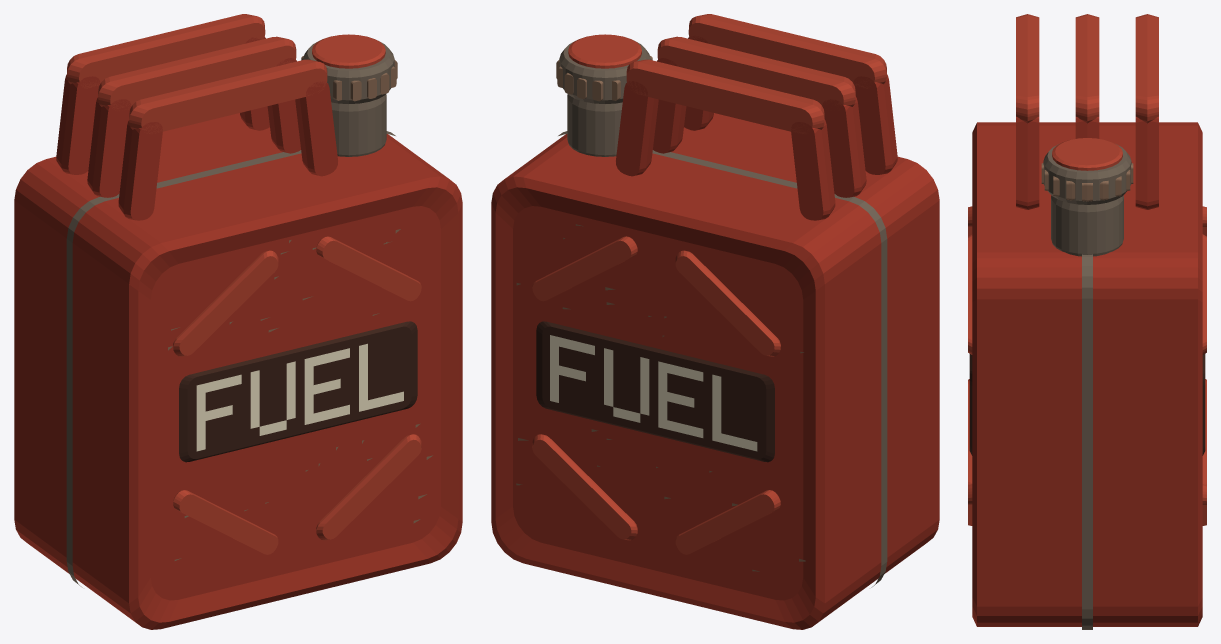
File: bidon-fuel.glb
The picture shows the model from 3 angles, left to right: view 1: azimuth 30°, elevation 25°; view 2: azimuth 150°, elevation 25°; view 3: azimuth 270°, elevation 25°; orthographic projection. The views are drawn at different scales.
Parts seen in each view (by area): view 1: Bidón FUEL; view 2: Bidón FUEL; view 3: Bidón FUEL.
Boxes of the visible parts, bbox=[...] form: Bidón FUEL: bbox=[14, 14, 462, 629]; Bidón FUEL: bbox=[491, 14, 939, 629]; Bidón FUEL: bbox=[968, 14, 1206, 629].
Bounding box in the file's own units: 0.4008 × 0.5741 × 0.255.
